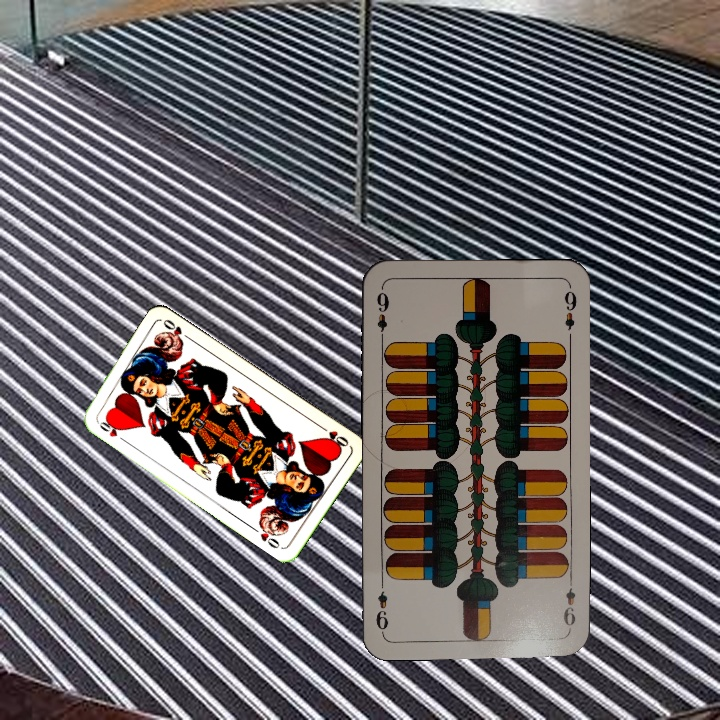E9: (559, 574, 579, 633), (372, 285, 391, 344)
HO: (316, 421, 351, 451), (93, 416, 124, 440)
